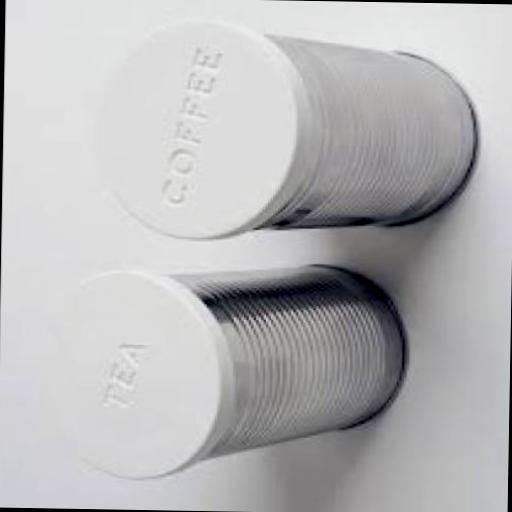metal: (158, 262, 407, 468), (229, 34, 473, 240)
